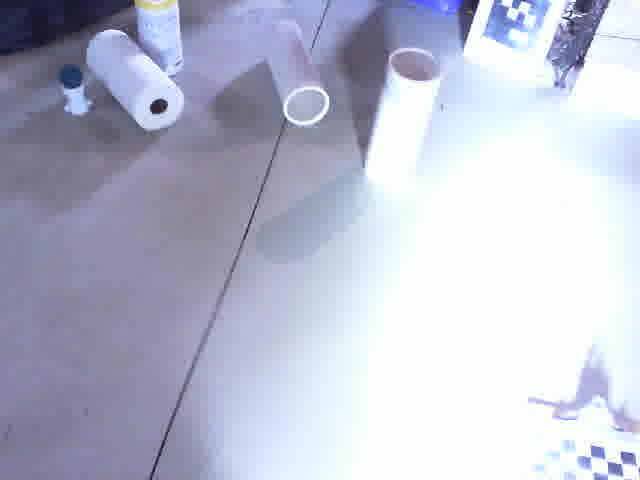coral: (362, 42, 442, 191), (253, 3, 332, 126)
